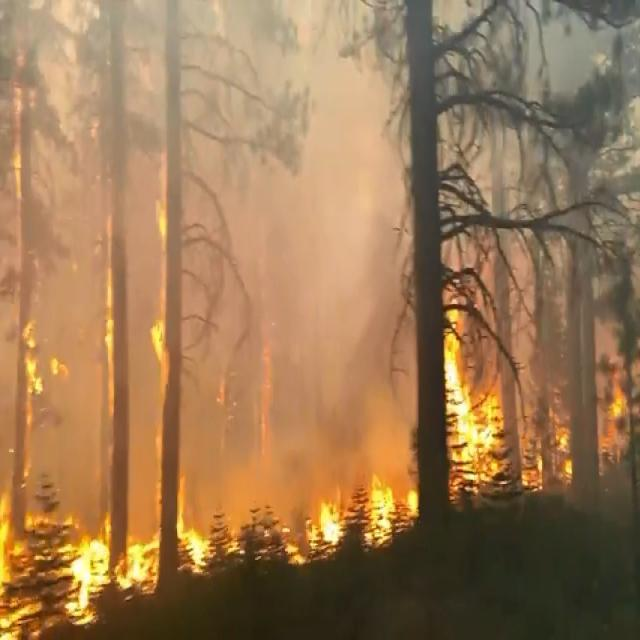Fire: (2, 283, 545, 640)
